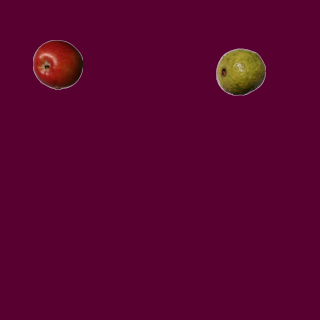Apple Braeburn: (32, 39, 82, 89)
Guava: (215, 46, 265, 96)
